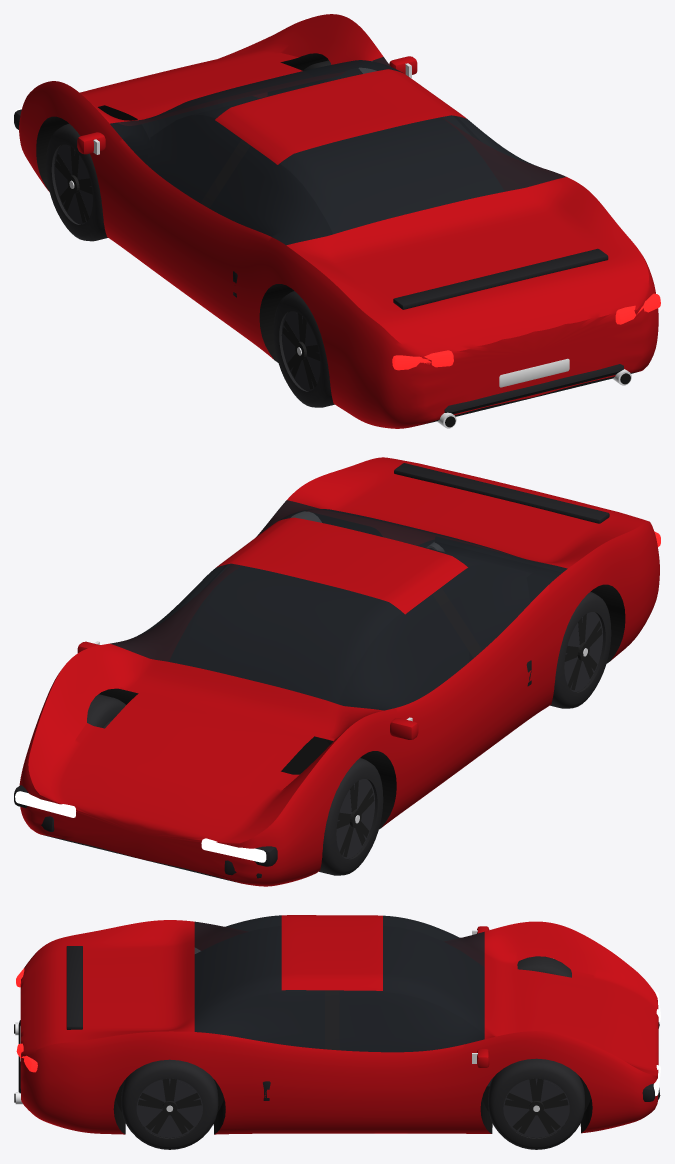
File: ferrari_f8_tributo.glb
3 views of the same model, one above another, from view 1: azimuth 30°, elevation 25°; view 2: azimuth 150°, elevation 25°; view 3: azimuth 270°, elevation 25° (orthographic). The views are drawn at different scales.
Visible parts, largest first — view 1: Body, Wheel_FL, Wheel_RL; view 2: Body, Wheel_FL, Wheel_RL, Wheel_FR; view 3: Body, Wheel_FR, Wheel_RR, Wheel_FL.
Boxes of the visible parts, x1,y1,x2,y2 form: Body: (14,14,660,428); Wheel_FL: (46,123,107,241); Wheel_RL: (273,291,334,407); Body: (14,457,660,886); Wheel_FL: (319,758,383,875); Wheel_RL: (550,591,611,708); Wheel_FR: (87,694,125,728); Body: (14,915,660,1134); Wheel_FR: (488,1058,584,1149); Wheel_RR: (121,1059,218,1149); Wheel_FL: (517,956,571,977).
Bounding box in the file's own units: 2.26 × 1.21 × 4.67.
